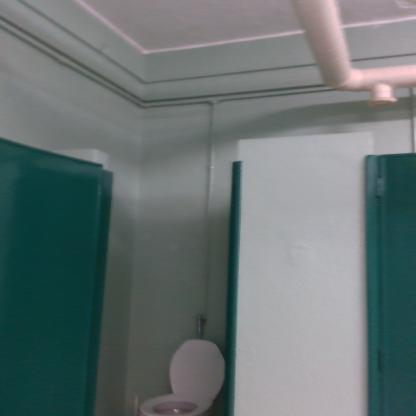closed: (339, 130, 415, 415)
open: (0, 136, 256, 416)
